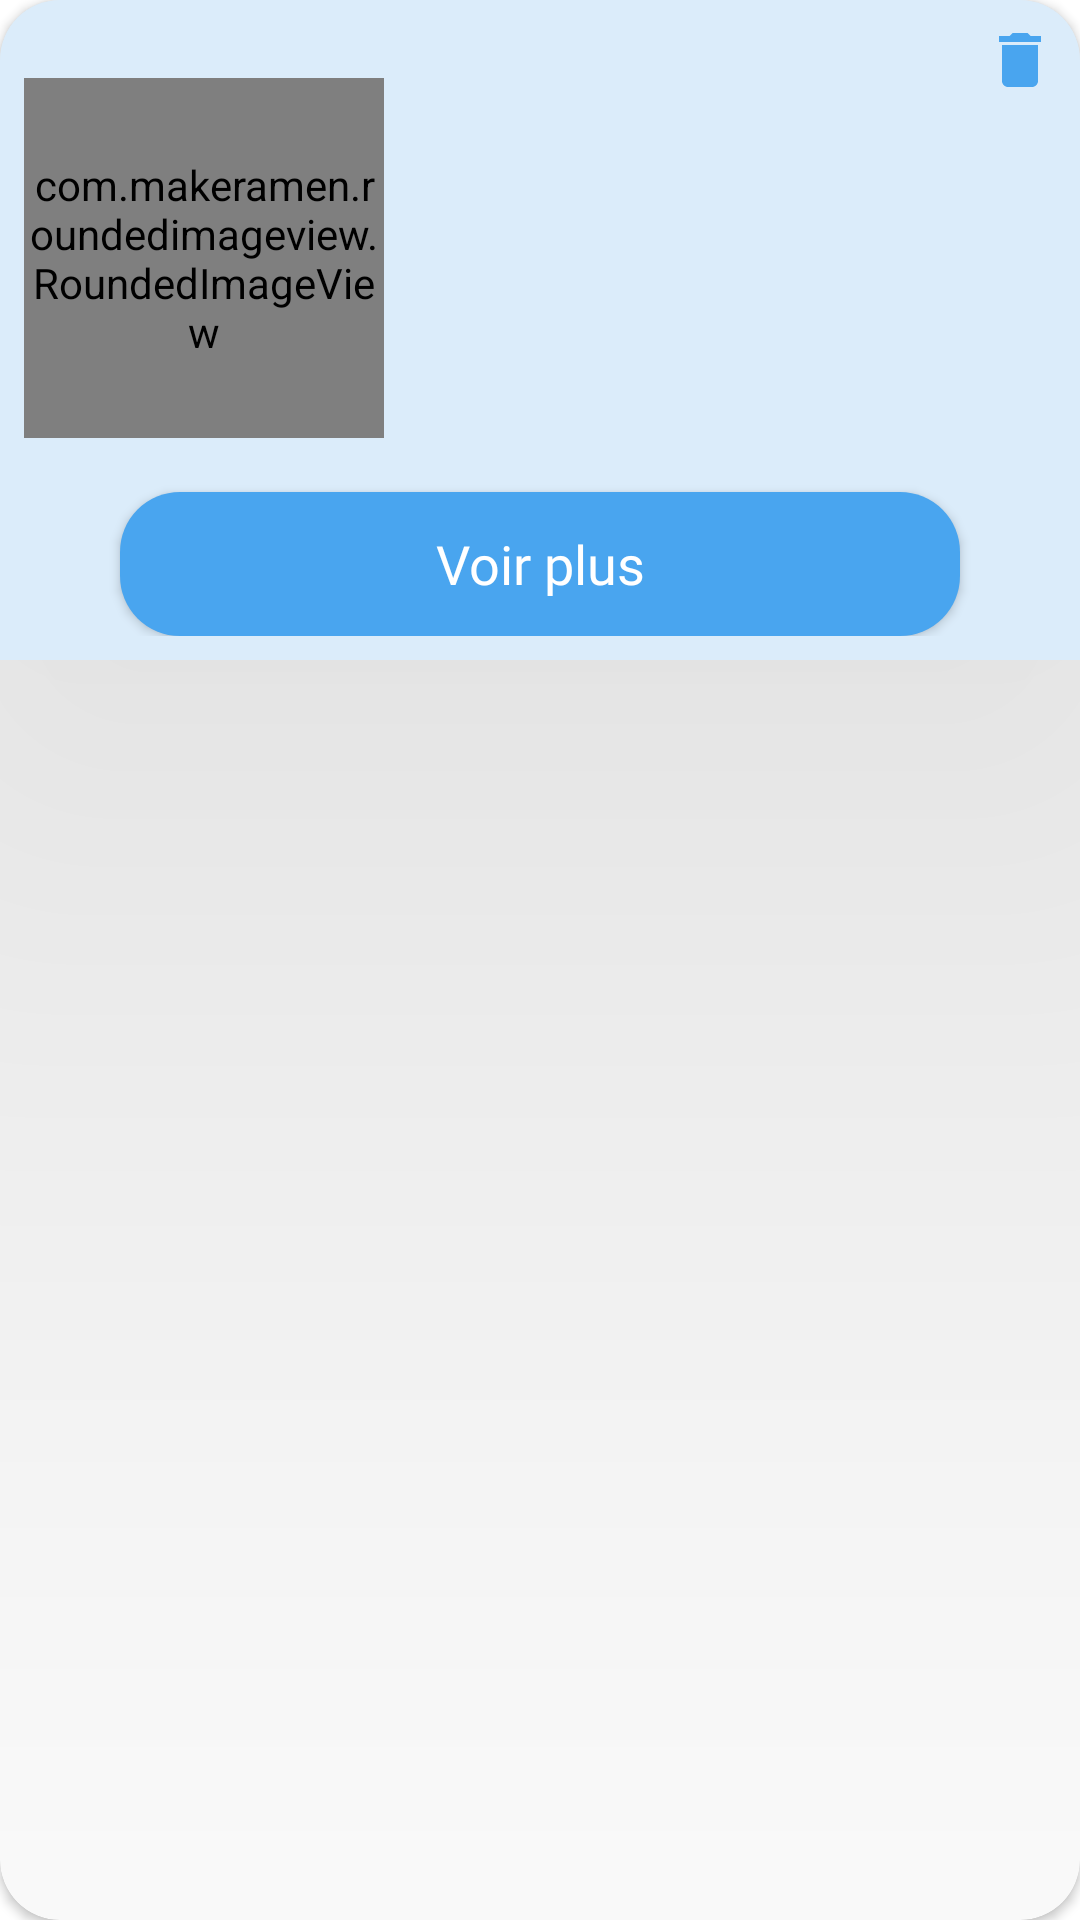

Point at icon controls on the screen. Image size 1080×1920, points as (x=x, y=y).
delete: (x=1020, y=60)
